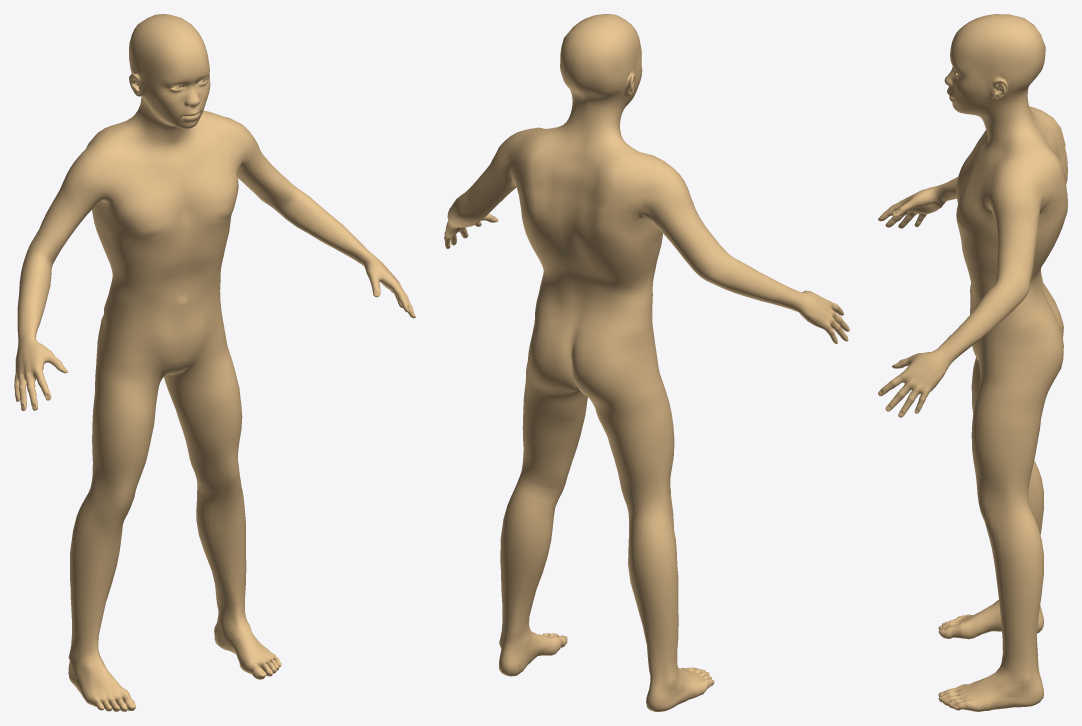
The picture shows the model from 3 angles, left to right: view 1: azimuth 30°, elevation 25°; view 2: azimuth 150°, elevation 25°; view 3: azimuth 270°, elevation 25°; orthographic projection.
Visible parts, largest first — view 1: Human; view 2: Human; view 3: Human.
Part boxes in pixels (bbox=[...]): Human: bbox=[14, 14, 415, 711]; Human: bbox=[444, 14, 849, 711]; Human: bbox=[878, 14, 1067, 711].
Size of the model in its own units: 0.8987 by 1.44 by 0.3789.
